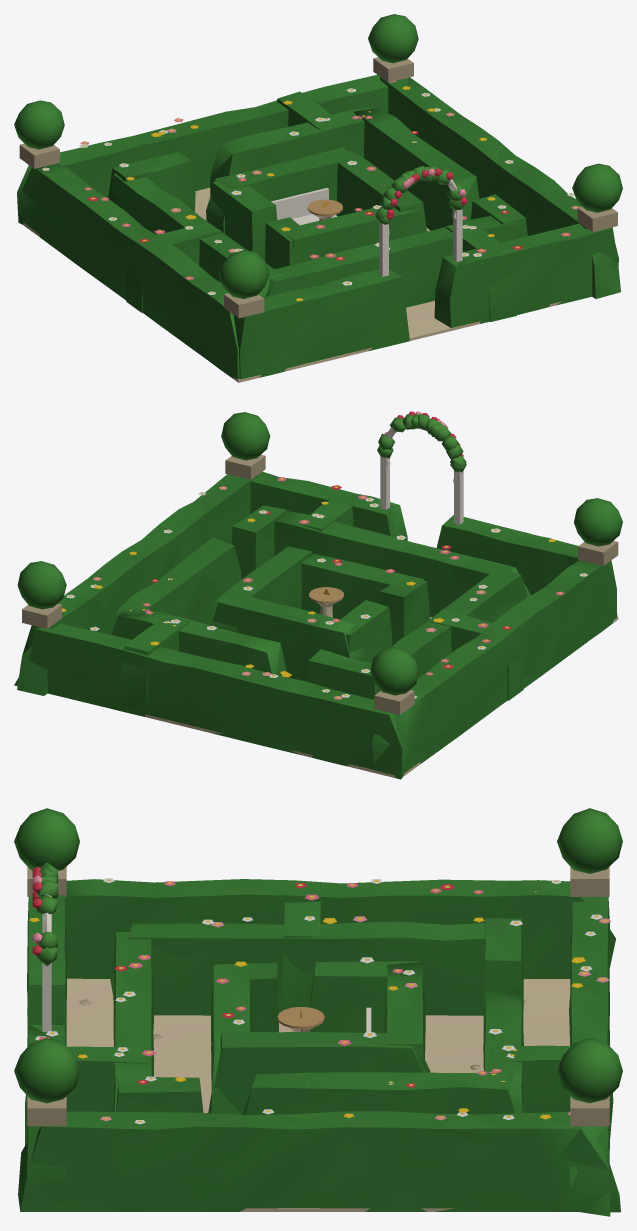
The model's file is flower_maze.glb.
3 views of the same model, one above another, from view 1: azimuth 30°, elevation 25°; view 2: azimuth 150°, elevation 25°; view 3: azimuth 270°, elevation 25° (orthographic). The views are drawn at different scales.
Parts seen in each view (by area): view 1: decor-flower_maze, decor-flower_maze-far; view 2: decor-flower_maze, decor-flower_maze-far; view 3: decor-flower_maze, decor-flower_maze-far.
Boxes of the visible parts, x1,y1,x2,y2 form: decor-flower_maze: [14, 14, 622, 382]; decor-flower_maze-far: [15, 16, 621, 361]; decor-flower_maze: [17, 411, 622, 779]; decor-flower_maze-far: [14, 413, 622, 772]; decor-flower_maze: [14, 808, 622, 1216]; decor-flower_maze-far: [16, 809, 621, 1212].
Size of the model in its own units: 7.75 by 3.07 by 7.74.
